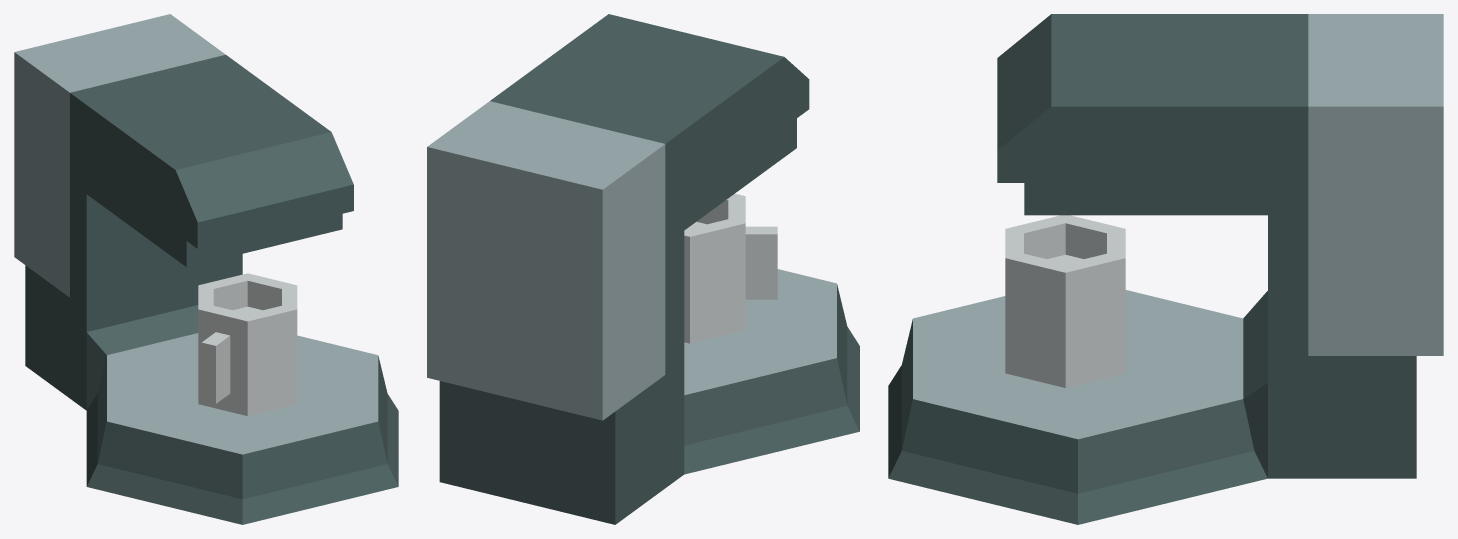
The model's file is furn_kitchenCoffeeMachine.glb.
3 renders of one model, left to right at view 1: azimuth 30°, elevation 25°; view 2: azimuth 150°, elevation 25°; view 3: azimuth 270°, elevation 25°, orthographic. The views are drawn at different scales.
Visible parts, largest first — view 1: kitchenCoffeeMachine(Clone), mug; view 2: kitchenCoffeeMachine(Clone), mug; view 3: kitchenCoffeeMachine(Clone), mug.
Boxes of the visible parts, <box> form: kitchenCoffeeMachine(Clone): <box>14,14,398,524</box>; mug: <box>198,273,297,416</box>; kitchenCoffeeMachine(Clone): <box>427,14,859,524</box>; mug: <box>684,193,777,343</box>; kitchenCoffeeMachine(Clone): <box>888,14,1443,524</box>; mug: <box>1005,215,1125,387</box>.
Size of the model in its own units: 0.1895 by 0.1775 by 0.2402.
